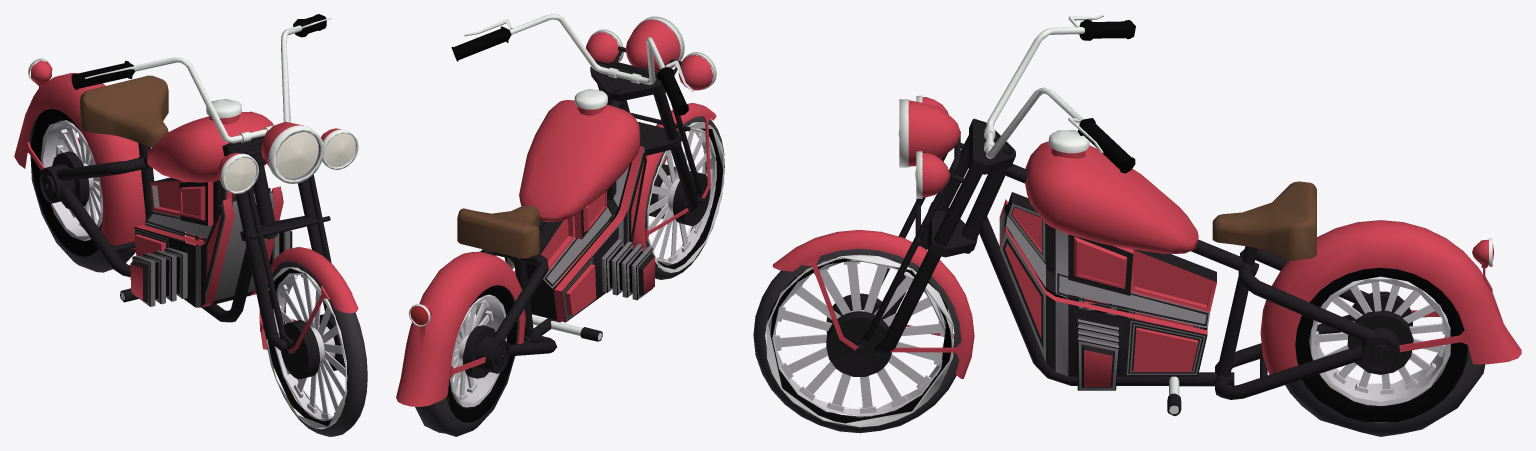
The model's file is bike-bobber.optimized.glb.
3 renders of one model, left to right at view 1: azimuth 30°, elevation 25°; view 2: azimuth 150°, elevation 25°; view 3: azimuth 270°, elevation 25°, orthographic. The views are drawn at different scales.
Visible parts, largest first — view 1: steering_upper_mesh, lamp_headlight; view 2: steering_upper_mesh; view 3: steering_upper_mesh.
Boxes of the visible parts, x1,y1,x2,y2 form: steering_upper_mesh: (14,14,367,436); lamp_headlight: (225,132,355,191); steering_upper_mesh: (396,14,724,436); steering_upper_mesh: (753,14,1521,436).
Bounding box in the file's own units: 1.01 × 1.24 × 2.31.
Materials: 2 (2 with a texture image).
